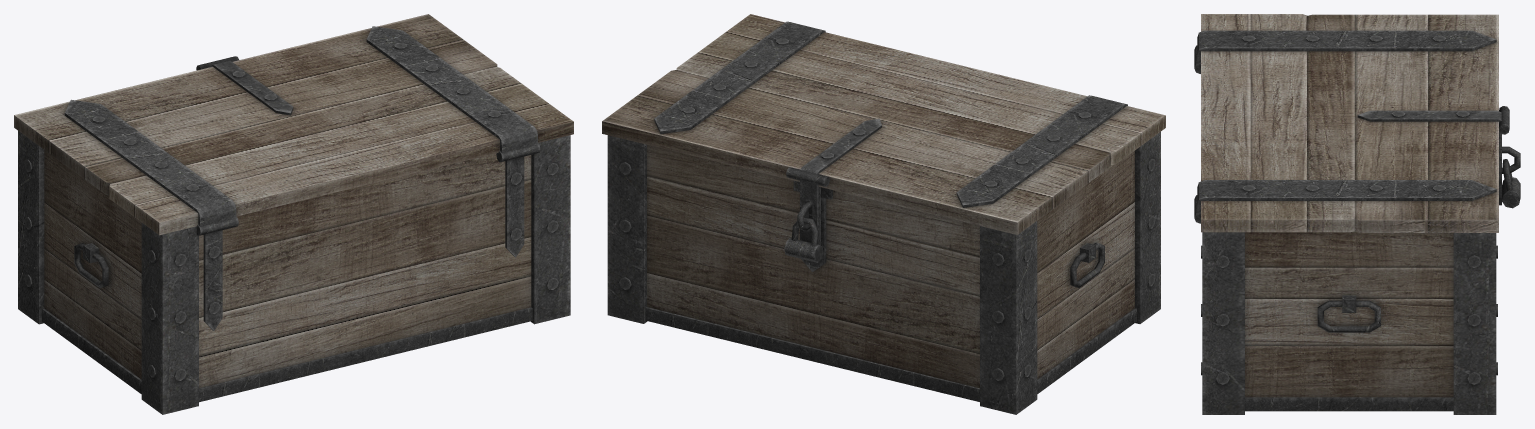
Rendered from mw_chest_03.FBX.
3 renders of one model, left to right at view 1: azimuth 30°, elevation 25°; view 2: azimuth 150°, elevation 25°; view 3: azimuth 270°, elevation 25°, orthographic.
Parts seen in each view (by area): view 1: mw_chest_03_top (×2); view 2: mw_chest_03_top (×2), mw_chest_03_lock; view 3: mw_chest_03_top (×2), mw_chest_03_lock.
Part boxes in pixels (x1,y1,x2,y2): mw_chest_03_top (×2): (14, 14, 573, 414); mw_chest_03_top (×2): (602, 14, 1165, 414); mw_chest_03_lock: (784, 217, 823, 262); mw_chest_03_top (×2): (1194, 14, 1520, 414); mw_chest_03_lock: (1501, 159, 1520, 208).
Bounding box in the file's own units: 106 × 48.14 × 70.98.
